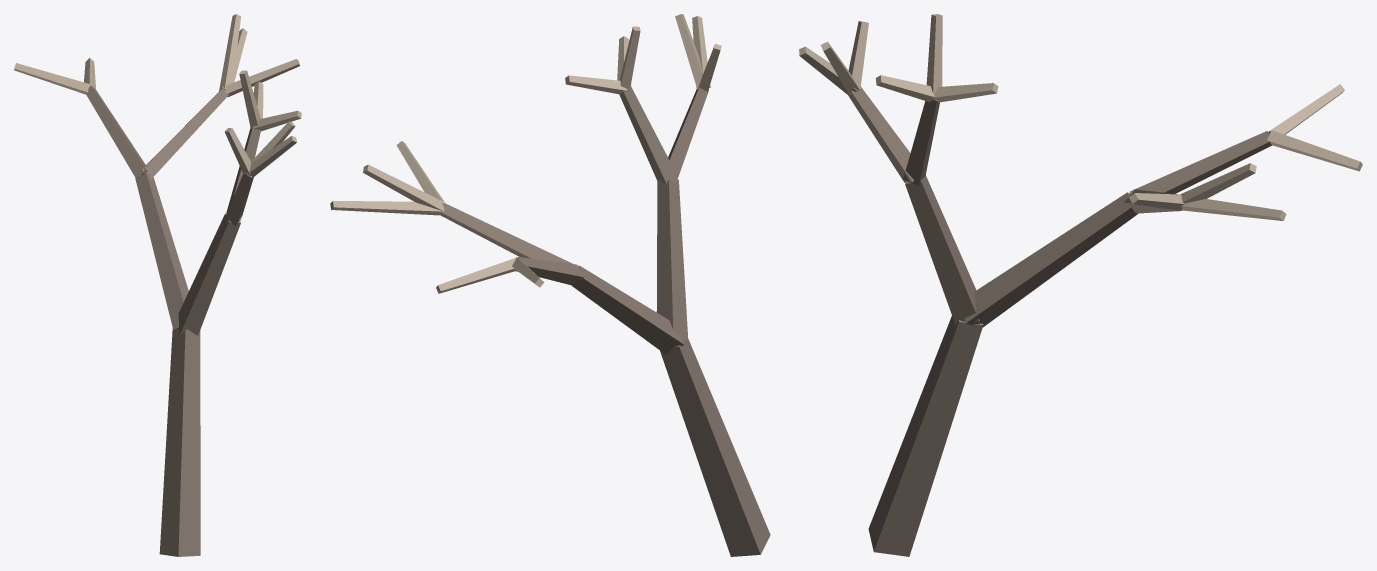
Rendered from bush_dead_c.glb.
3 views of the same model, side by side, from view 1: azimuth 30°, elevation 25°; view 2: azimuth 150°, elevation 25°; view 3: azimuth 270°, elevation 25° (orthographic). The views are drawn at different scales.
Visible parts, largest first — view 1: BushDeadC; view 2: BushDeadC; view 3: BushDeadC.
Boxes of the visible parts, <box> form: BushDeadC: <box>14,14,301,556</box>; BushDeadC: <box>330,14,770,556</box>; BushDeadC: <box>799,14,1362,556</box>.
Size of the model in its own units: 0.7581 by 1.42 by 1.23.
